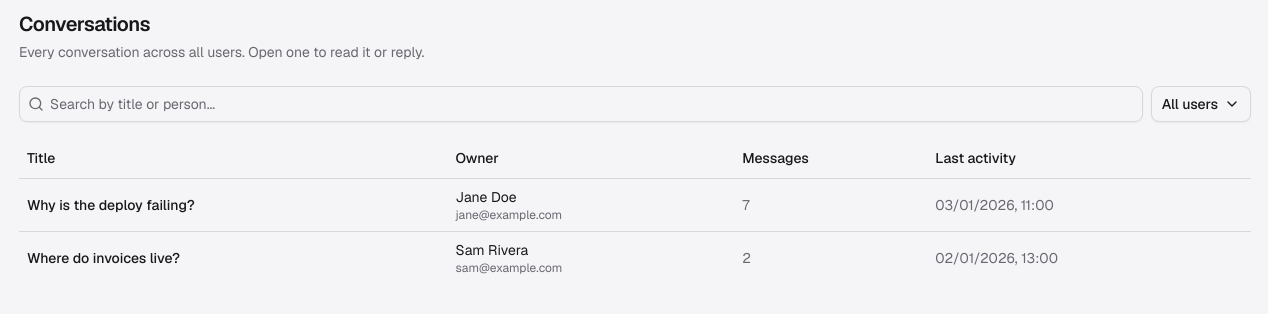
Test: AdminConversationsPanel › says so when a filter matches nothing instead of showing an empty table
Expected: the link "Why is the deploy failing?" is shown, [27,196,195,214]
Step 1. Type "nothing matches this" into the field named "Search conversations" → (593,104), box [44,86,1142,122]
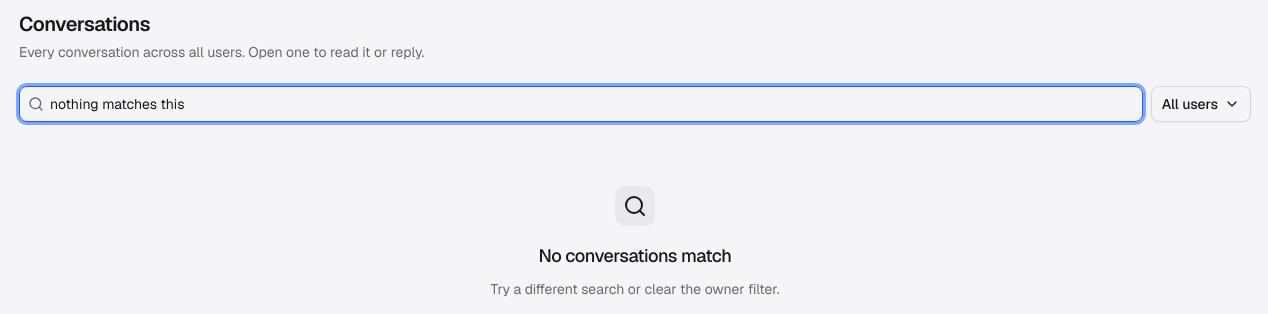
Expected: the table is gone
Expected: the text "No conversations match" is shown, [538,242,732,270]
